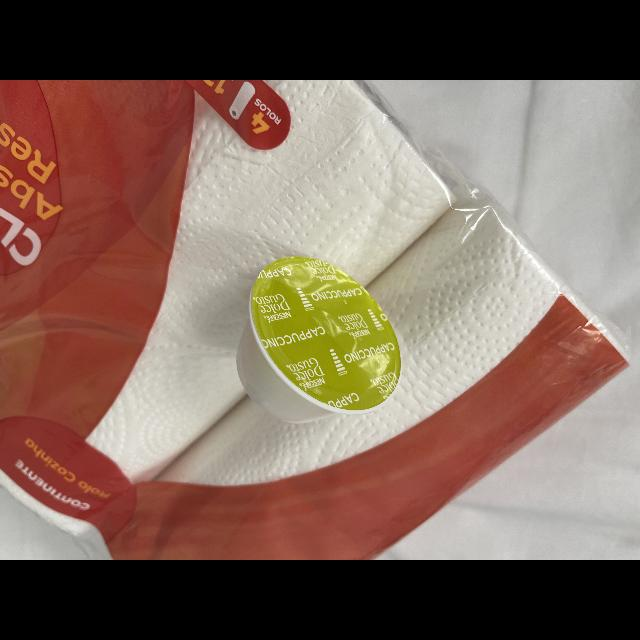intact_capsule: (225, 242, 405, 436)
